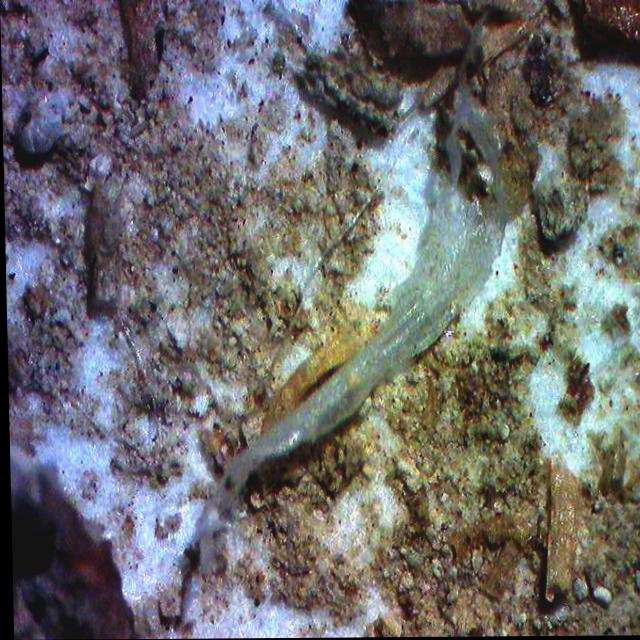microplastic: (187, 84, 554, 604)
